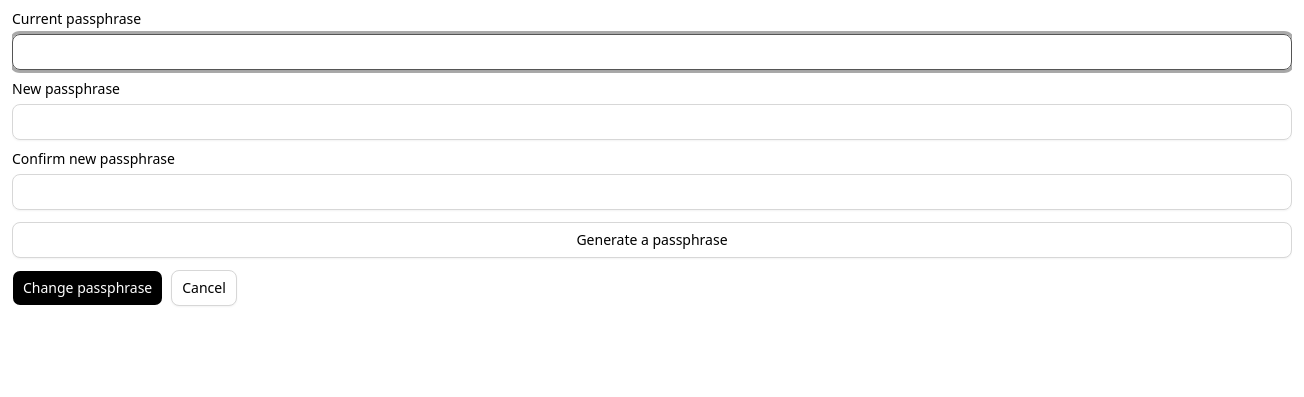
ChangePassphraseForm › fills both new fields from a generated passphrase
Click the button "Generate a passphrase": click(652, 240) [12,222,1292,258]
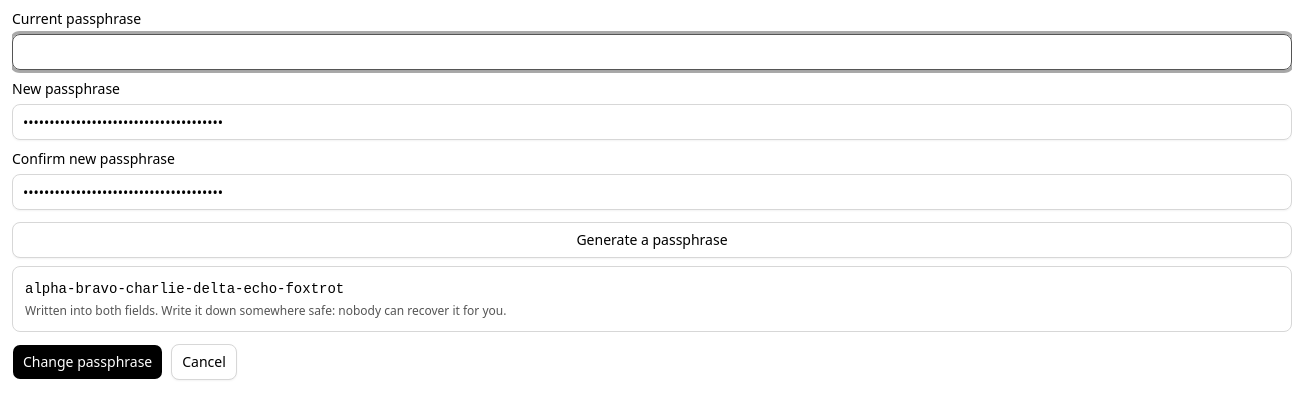
Result: the text "alpha-bravo-charlie-delta-echo-foxtrot" is shown at [25,281,344,297]
Result: the password field labelled "Confirm new passphrase" holds "alpha-bravo-charlie-delta-echo-foxtrot" at [12,174,1292,210]
